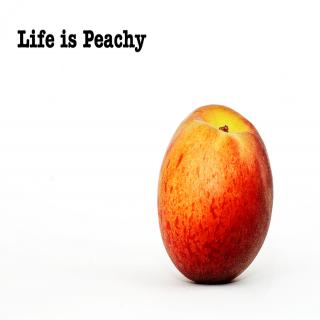Apple: (157, 98, 270, 289)
Peach: (156, 103, 273, 285)
